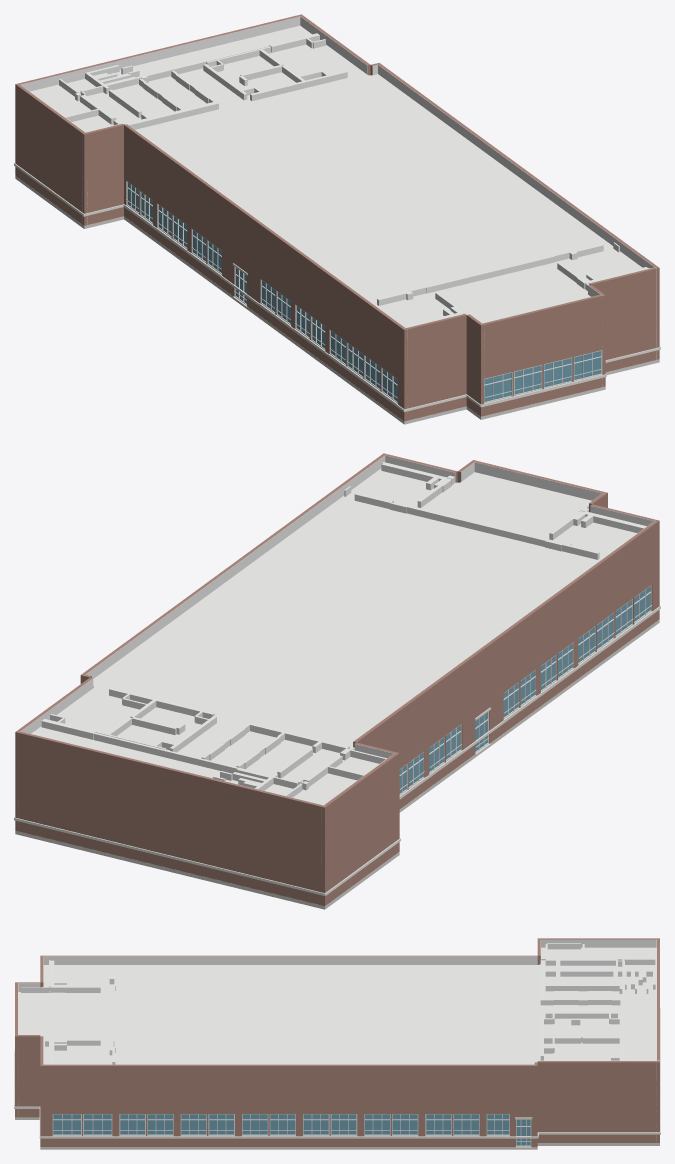
Rendered from hall_2F.glb.
3 views of the same model, one above another, from view 1: azimuth 30°, elevation 25°; view 2: azimuth 150°, elevation 25°; view 3: azimuth 270°, elevation 25° (orthographic). The views are drawn at different scales.
Visible parts, largest first — view 1: hall_2F__ceil, hall_2F__brick, hall_2F__wallIn, hall_2F__glass, hall_2F__frameW, hall_2F__white, hall_2F__corrFloor; view 2: hall_2F__ceil, hall_2F__brick, hall_2F__wallIn, hall_2F__glass, hall_2F__white, hall_2F__corrFloor, hall_2F__frameW; view 3: hall_2F__ceil, hall_2F__brick, hall_2F__wallIn, hall_2F__glass, hall_2F__frameW, hall_2F__white, hall_2F__corrFloor, hall_2F__rail.
Part boxes in pixels (box(x1,y1,x2,y2)): hall_2F__ceil: box(30, 25, 642, 325); hall_2F__brick: box(15, 14, 659, 421); hall_2F__wallIn: box(20, 16, 656, 385); hall_2F__glass: box(127, 182, 600, 401); hall_2F__frameW: box(126, 181, 601, 403); hall_2F__white: box(14, 163, 660, 411); hall_2F__corrFloor: box(15, 175, 659, 424); hall_2F__ceil: box(31, 468, 636, 805); hall_2F__brick: box(15, 453, 659, 905); hall_2F__wallIn: box(18, 455, 655, 866); hall_2F__glass: box(399, 586, 650, 793); hall_2F__white: box(14, 606, 660, 896); hall_2F__corrFloor: box(15, 619, 659, 909); hall_2F__frameW: box(399, 585, 651, 795); hall_2F__ceil: box(18, 947, 656, 1064); hall_2F__brick: box(15, 938, 659, 1146); hall_2F__wallIn: box(18, 939, 659, 1142); hall_2F__glass: box(53, 1114, 530, 1145); hall_2F__frameW: box(52, 1114, 531, 1146); hall_2F__white: box(14, 1008, 660, 1147); hall_2F__corrFloor: box(15, 1117, 659, 1149); hall_2F__rail: box(14, 1049, 530, 1141).
Size of the model in its own units: 23.84 by 7.25 by 50.74.
